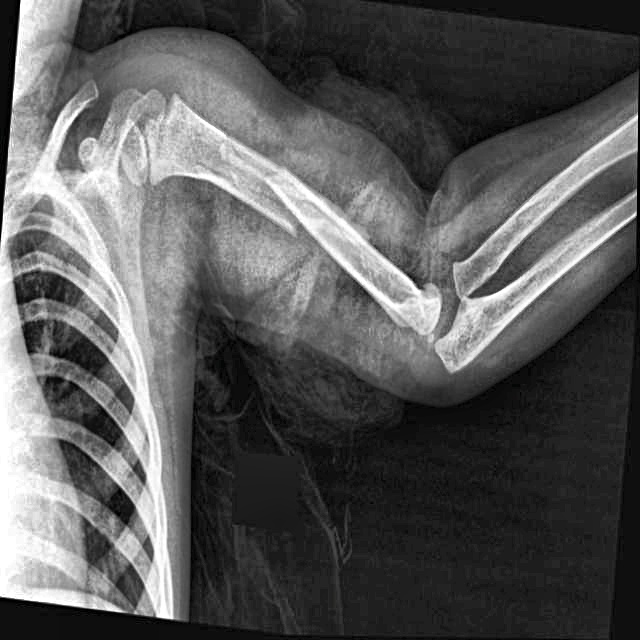Transverse: (249, 143, 320, 256)
